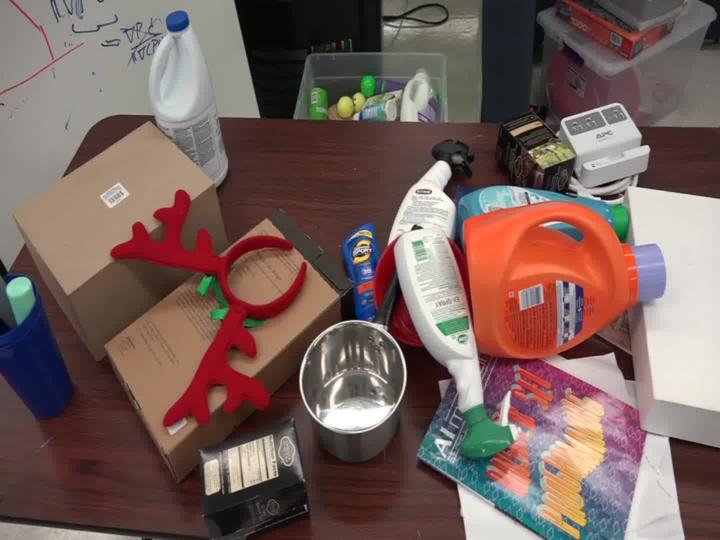tide: (439, 182, 669, 367)
